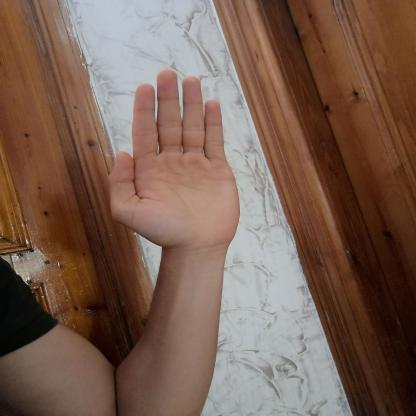SEEN: (96, 61, 249, 258)
